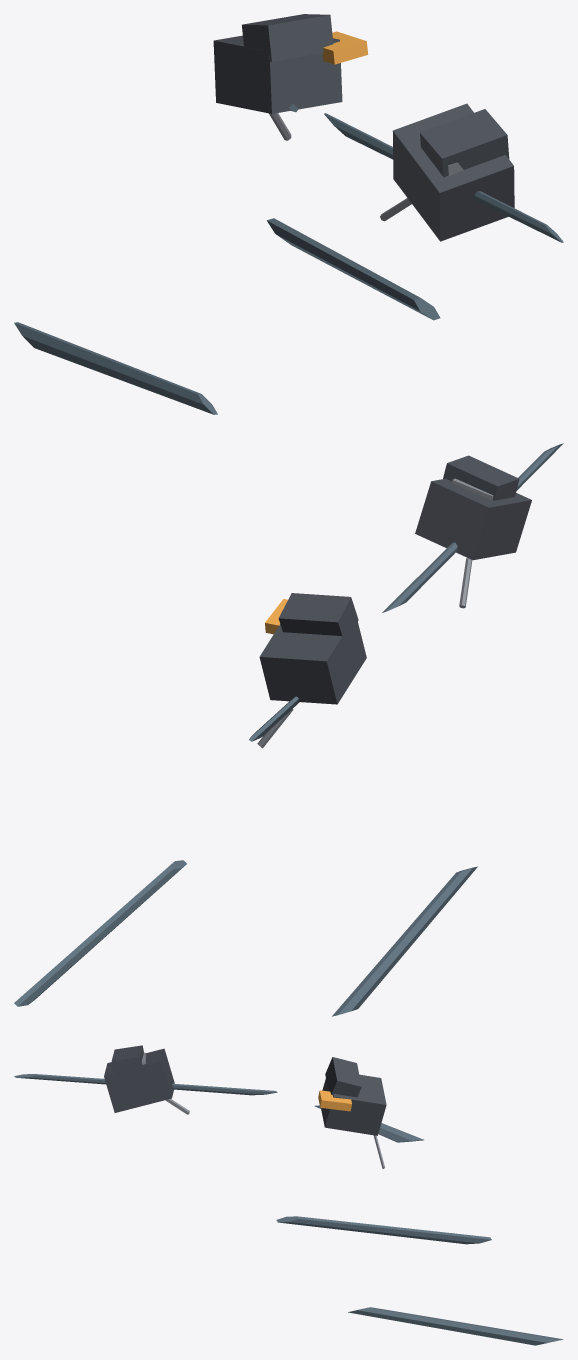
File: KINETIC_FPSArms.glb
The picture shows the model from 3 angles, top to bottom: view 1: azimuth 30°, elevation 25°; view 2: azimuth 150°, elevation 25°; view 3: azimuth 270°, elevation 25°; orthographic projection. The views are drawn at different scales.
Parts seen in each view (by area): view 1: KINETIC_FPSArms_Gloves, KINETIC_FPSArms_Sleeves, KINETIC_FPSArms_Accent, KINETIC_FPSArms_Cuffs; view 2: KINETIC_FPSArms_Gloves, KINETIC_FPSArms_Sleeves, KINETIC_FPSArms_Cuffs; view 3: KINETIC_FPSArms_Gloves, KINETIC_FPSArms_Sleeves, KINETIC_FPSArms_Accent.
Part boxes in pixels (box(x1,y1,x2,y2)): KINETIC_FPSArms_Gloves: box(213, 14, 514, 241); KINETIC_FPSArms_Sleeves: box(14, 103, 563, 414); KINETIC_FPSArms_Accent: box(322, 31, 368, 64); KINETIC_FPSArms_Cuffs: box(269, 113, 463, 221); KINETIC_FPSArms_Gloves: box(259, 455, 531, 704); KINETIC_FPSArms_Sleeves: box(14, 443, 563, 1016); KINETIC_FPSArms_Cuffs: box(257, 478, 493, 748); KINETIC_FPSArms_Gloves: box(104, 1045, 386, 1135); KINETIC_FPSArms_Sleeves: box(14, 1074, 563, 1345); KINETIC_FPSArms_Accent: box(318, 1090, 351, 1111).
Size of the model in its own units: 0.3725 by 0.4556 by 0.9227.
